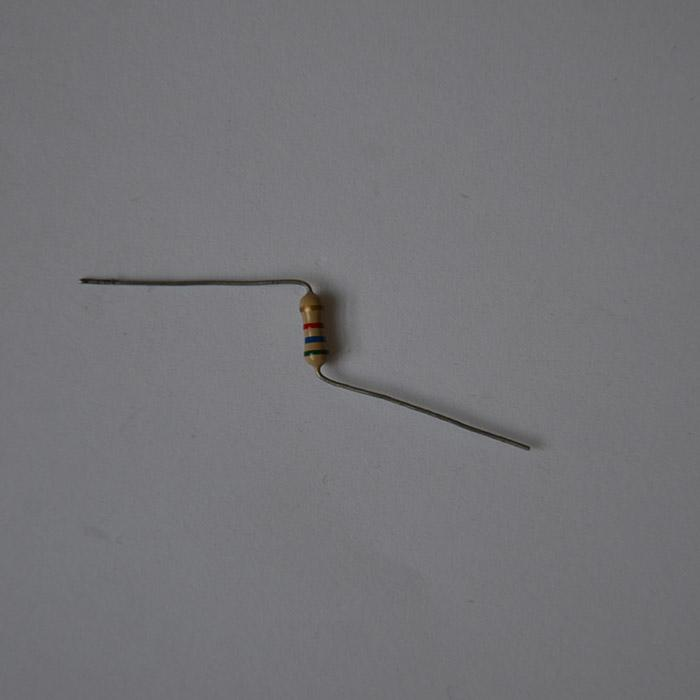resistor: (299, 289, 327, 369)
